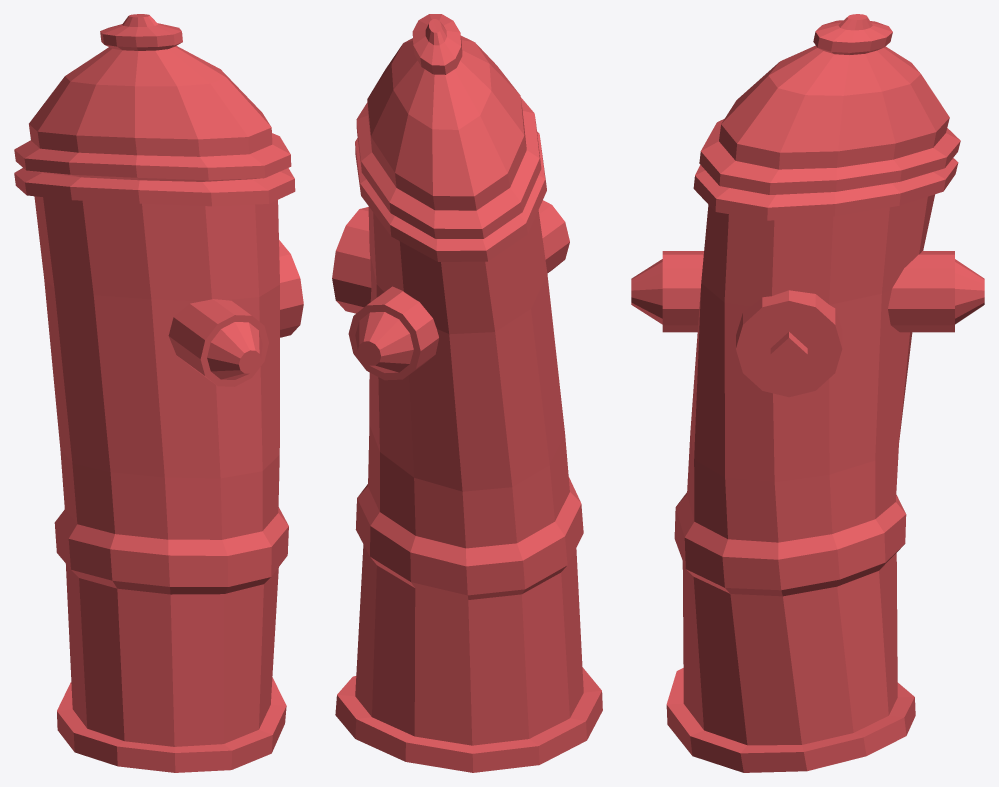
The model's file is hydrant.fbx.
3 renders of one model, left to right at view 1: azimuth 30°, elevation 25°; view 2: azimuth 150°, elevation 25°; view 3: azimuth 270°, elevation 25°, orthographic. The views are drawn at different scales.
Parts seen in each view (by area): view 1: Cylinder, Cylinder.002, Cylinder.001; view 2: Cylinder, Cylinder.002, Cylinder.001; view 3: Cylinder, Cylinder.002, Cylinder.001.
Part boxes in pixels (x1=…): Cylinder: x1=14, y1=14, x2=295, y2=772; Cylinder.002: x1=168, y1=299, x2=268, y2=386; Cylinder.001: x1=279, y1=240, x2=303, y2=337; Cylinder: x1=335, y1=14, x2=602, y2=772; Cylinder.002: x1=348, y1=200, x2=569, y2=380; Cylinder.001: x1=332, y1=207, x2=371, y2=313; Cylinder: x1=666, y1=14, x2=960, y2=772; Cylinder.002: x1=631, y1=251, x2=984, y2=332; Cylinder.001: x1=736, y1=290, x2=842, y2=397.
Size of the model in its own units: 213 by 635 by 284.
